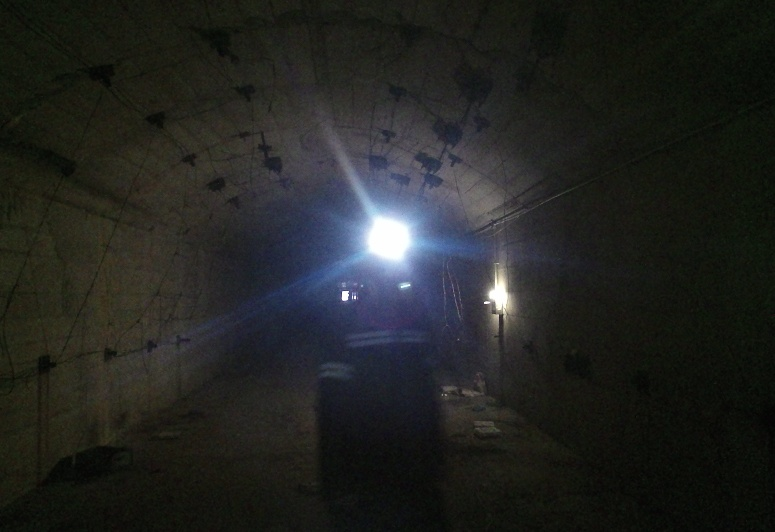person: (287, 227, 436, 532)
